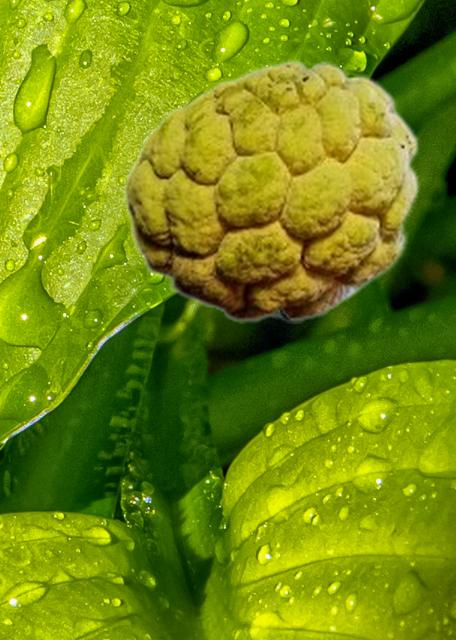atis: (121, 59, 419, 322)
